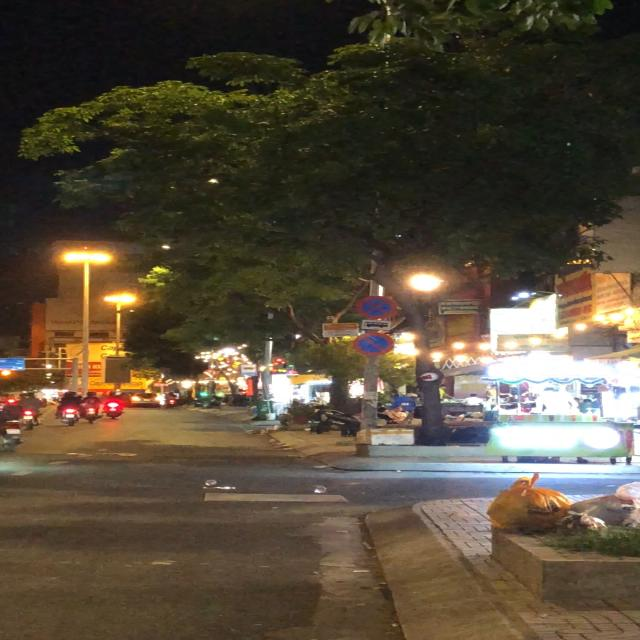Bien bao cam do xe: (350, 331, 399, 358)
Bien bao cam dung xe va do xe: (356, 294, 398, 320)
